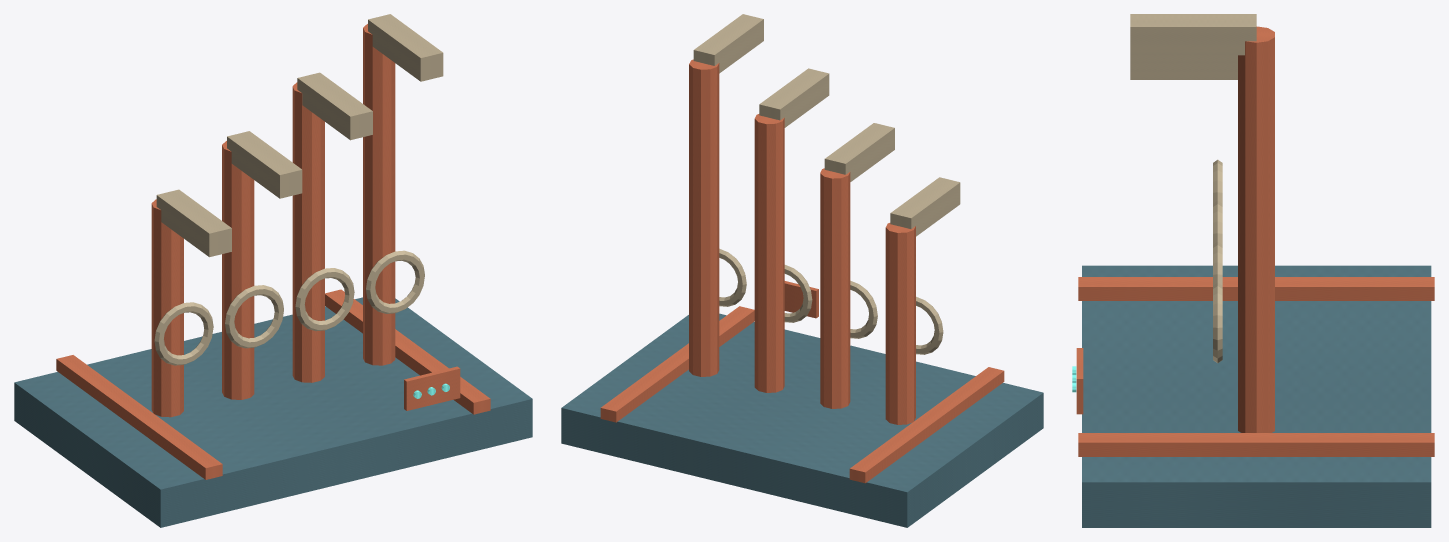
Rendered from atlas100-s050-a03.glb.
3 views of the same model, side by side, from view 1: azimuth 30°, elevation 25°; view 2: azimuth 150°, elevation 25°; view 3: azimuth 270°, elevation 25° (orthographic). The views are drawn at different scales.
Visible parts, largest first — view 1: atlas100-s050-a03:part-000, atlas100-s050-a03:part-012, atlas100-s050-a03:part-009, atlas100-s050-a03:part-006, atlas100-s050-a03:part-003, atlas100-s050-a03:part-001, atlas100-s050-a03:part-014, atlas100-s050-a03:part-008, atlas100-s050-a03:part-011, atlas100-s050-a03:part-005, atlas100-s050-a03:part-002, atlas100-s050-a03:part-015 (+4 smaller); view 2: atlas100-s050-a03:part-000, atlas100-s050-a03:part-012, atlas100-s050-a03:part-009, atlas100-s050-a03:part-006, atlas100-s050-a03:part-003, atlas100-s050-a03:part-001, atlas100-s050-a03:part-002, atlas100-s050-a03:part-011, atlas100-s050-a03:part-014, atlas100-s050-a03:part-005, atlas100-s050-a03:part-008, atlas100-s050-a03:part-015 (+4 smaller); view 3: atlas100-s050-a03:part-000, atlas100-s050-a03:part-012, atlas100-s050-a03:part-002, atlas100-s050-a03:part-001, atlas100-s050-a03:part-014, atlas100-s050-a03:part-005, atlas100-s050-a03:part-008, atlas100-s050-a03:part-011, atlas100-s050-a03:part-013, atlas100-s050-a03:part-015.
Boxes of the visible parts, x1=… form: atlas100-s050-a03:part-000: x1=14, y1=297, x2=532, y2=527; atlas100-s050-a03:part-012: x1=363, y1=24, x2=395, y2=365; atlas100-s050-a03:part-009: x1=292, y1=82, x2=324, y2=382; atlas100-s050-a03:part-006: x1=222, y1=141, x2=254, y2=399; atlas100-s050-a03:part-003: x1=151, y1=199, x2=183, y2=417; atlas100-s050-a03:part-001: x1=56, y1=355, x2=222, y2=479; atlas100-s050-a03:part-014: x1=368, y1=14, x2=443, y2=81; atlas100-s050-a03:part-008: x1=227, y1=131, x2=302, y2=198; atlas100-s050-a03:part-011: x1=297, y1=72, x2=372, y2=140; atlas100-s050-a03:part-005: x1=156, y1=189, x2=231, y2=257; atlas100-s050-a03:part-002: x1=325, y1=289, x2=490, y2=414; atlas100-s050-a03:part-015: x1=404, y1=366, x2=460, y2=410; atlas100-s050-a03:part-000: x1=561, y1=313, x2=1043, y2=527; atlas100-s050-a03:part-012: x1=689, y1=59, x2=719, y2=376; atlas100-s050-a03:part-009: x1=754, y1=114, x2=784, y2=392; atlas100-s050-a03:part-006: x1=820, y1=168, x2=850, y2=408; atlas100-s050-a03:part-003: x1=885, y1=223, x2=915, y2=424; atlas100-s050-a03:part-001: x1=849, y1=367, x2=1004, y2=483; atlas100-s050-a03:part-002: x1=600, y1=306, x2=754, y2=422; atlas100-s050-a03:part-011: x1=759, y1=68, x2=829, y2=127; atlas100-s050-a03:part-014: x1=693, y1=14, x2=763, y2=73; atlas100-s050-a03:part-005: x1=890, y1=177, x2=960, y2=236; atlas100-s050-a03:part-008: x1=824, y1=123, x2=894, y2=181; atlas100-s050-a03:part-015: x1=784, y1=281, x2=818, y2=318; atlas100-s050-a03:part-000: x1=1082, y1=265, x2=1431, y2=527; atlas100-s050-a03:part-012: x1=1238, y1=26, x2=1274, y2=432; atlas100-s050-a03:part-002: x1=1078, y1=433, x2=1434, y2=456; atlas100-s050-a03:part-001: x1=1078, y1=277, x2=1434, y2=300; atlas100-s050-a03:part-014: x1=1130, y1=14, x2=1256, y2=55; atlas100-s050-a03:part-005: x1=1130, y1=71, x2=1237, y2=79; atlas100-s050-a03:part-008: x1=1130, y1=63, x2=1237, y2=71; atlas100-s050-a03:part-011: x1=1130, y1=55, x2=1237, y2=63; atlas100-s050-a03:part-013: x1=1213, y1=282, x2=1222, y2=363; atlas100-s050-a03:part-015: x1=1076, y1=348, x2=1083, y2=414.
Bounding box in the file's own units: 2.64 × 2.62 × 1.87.
4 materials, 4 textured.
